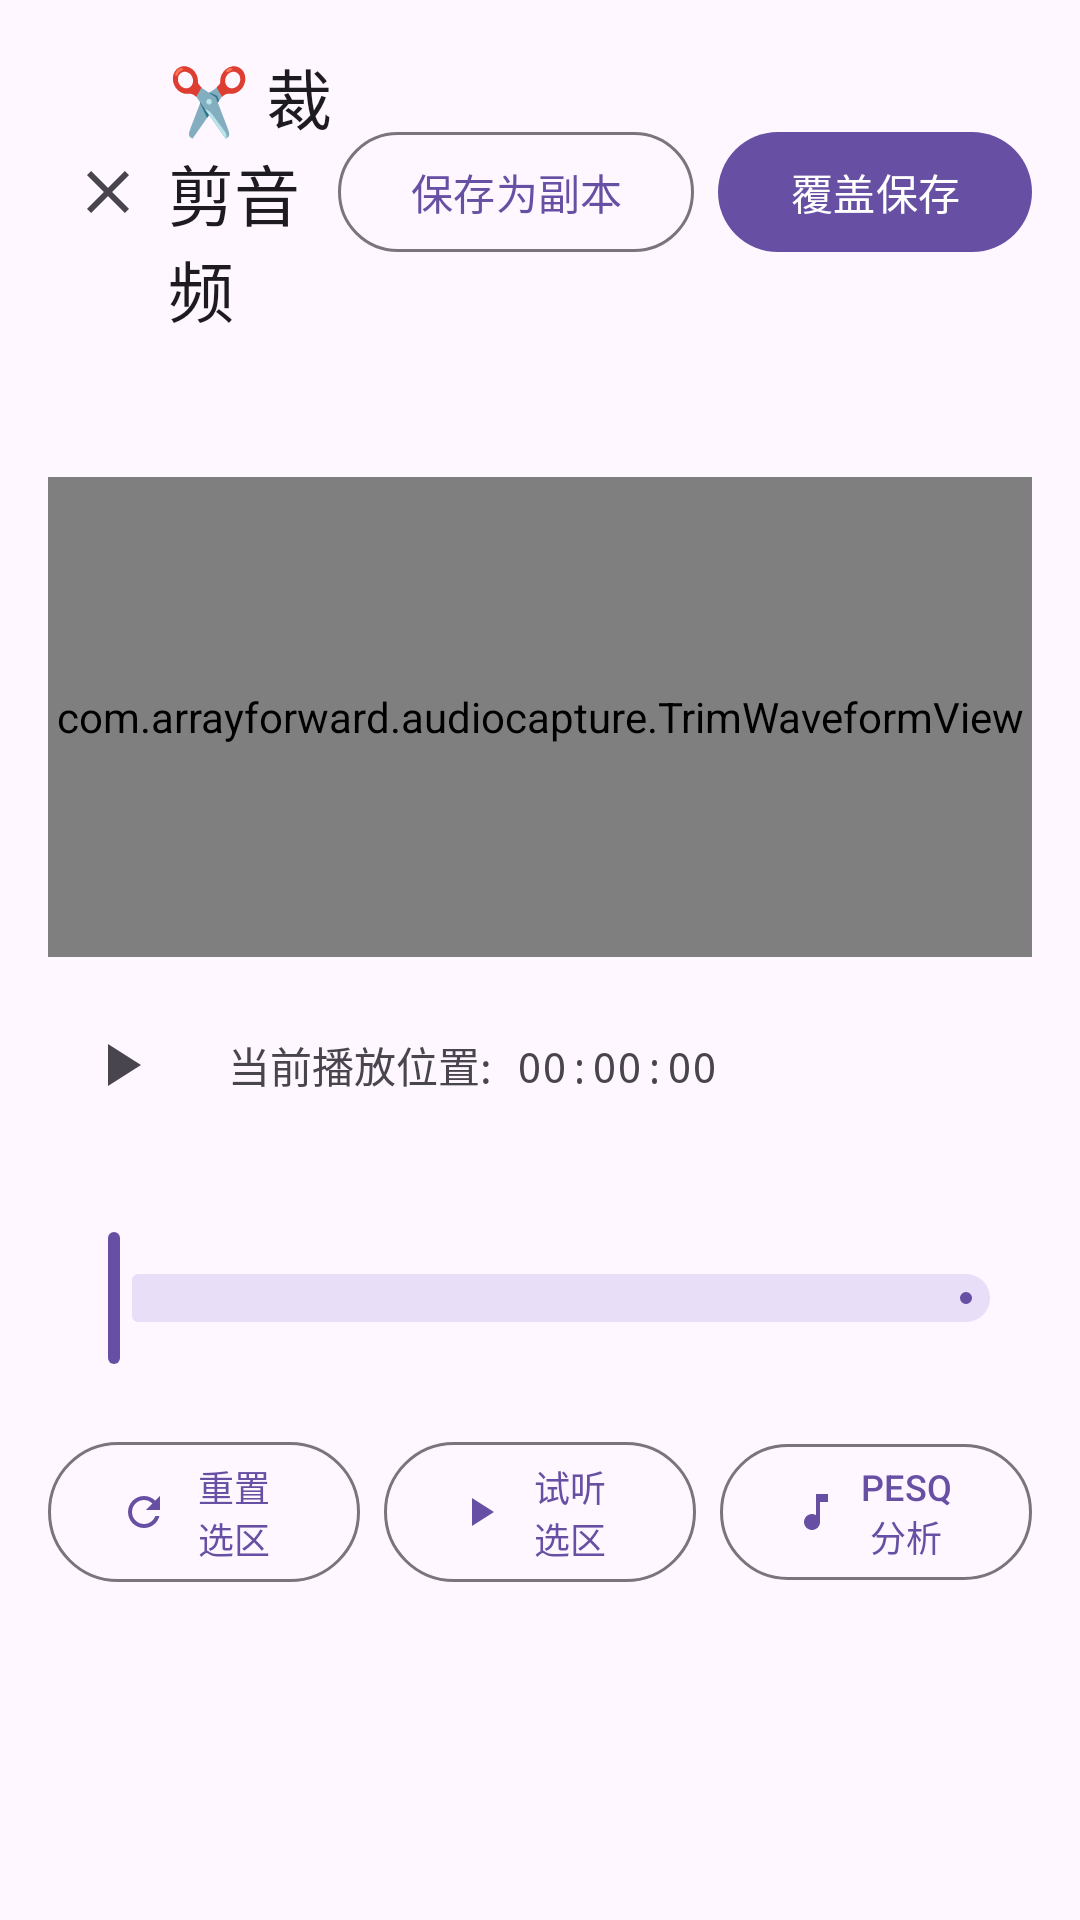

Screen size 1080w x 1920h. Icon name, then its center in pixels as (x,y):
关闭: (108,192)
